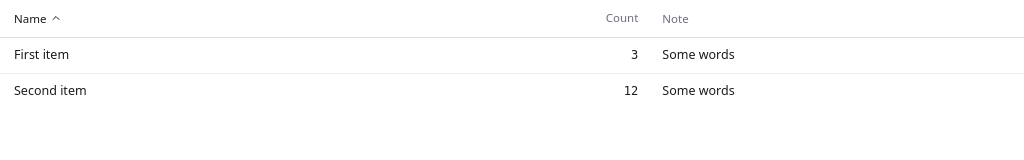
Test case: sorts by a column when its header is pressed, and turns the direction round on the next press
What coordinates should you click on to do the following:
click the button "Count"
I would click on:
 (614, 18)
Its box is [590, 9, 638, 26].
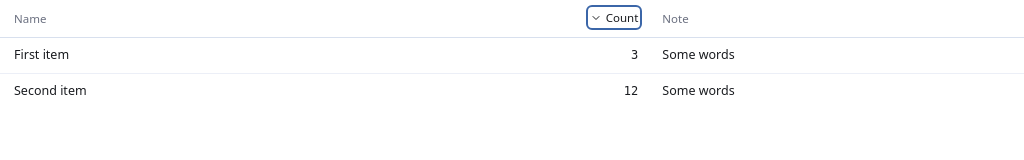
What coordinates should you click on to do the following:
click the button "Count"
I would click on:
 (614, 18)
Its box is [590, 9, 638, 26].
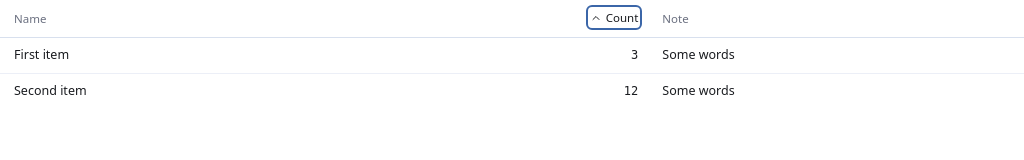
What coordinates should you click on to do the following:
click the button "Name"
I would click on:
 (38, 18)
Its box is [14, 10, 62, 27].
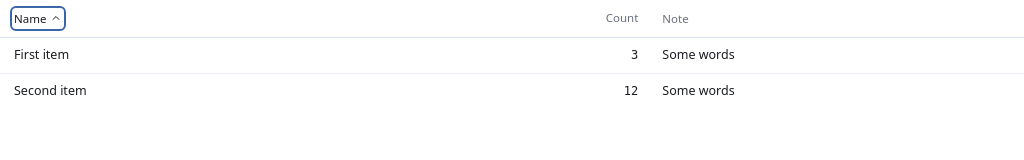
Check: the column heading "Name" has attribute aria-sort="ascending", box [0, 0, 375, 38]
